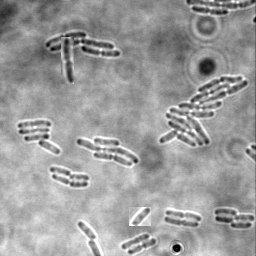Dividing: (61, 37, 74, 84), (52, 175, 89, 189), (128, 238, 157, 255), (166, 209, 202, 222), (164, 217, 200, 228), (192, 7, 229, 17)
Microcolony: (158, 76, 249, 147), (76, 137, 139, 168), (45, 32, 121, 57), (18, 120, 61, 155), (214, 208, 255, 229)
Rod: (121, 233, 150, 251), (129, 207, 151, 226), (78, 222, 99, 240), (50, 167, 72, 177), (69, 174, 90, 183)
